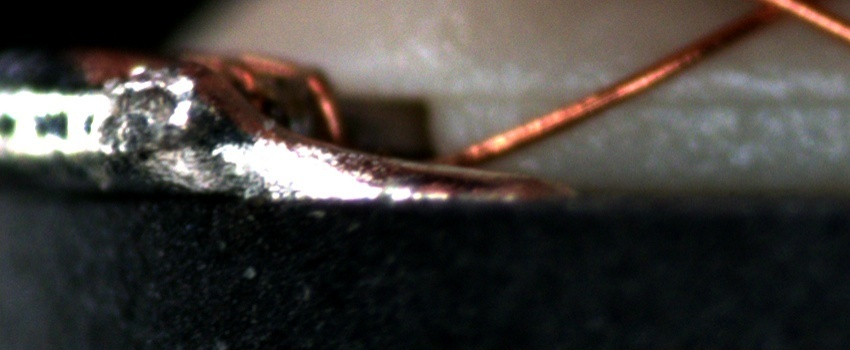CL: (737, 0, 819, 32)
DL: (456, 62, 850, 124)
TE: (191, 41, 343, 143)
